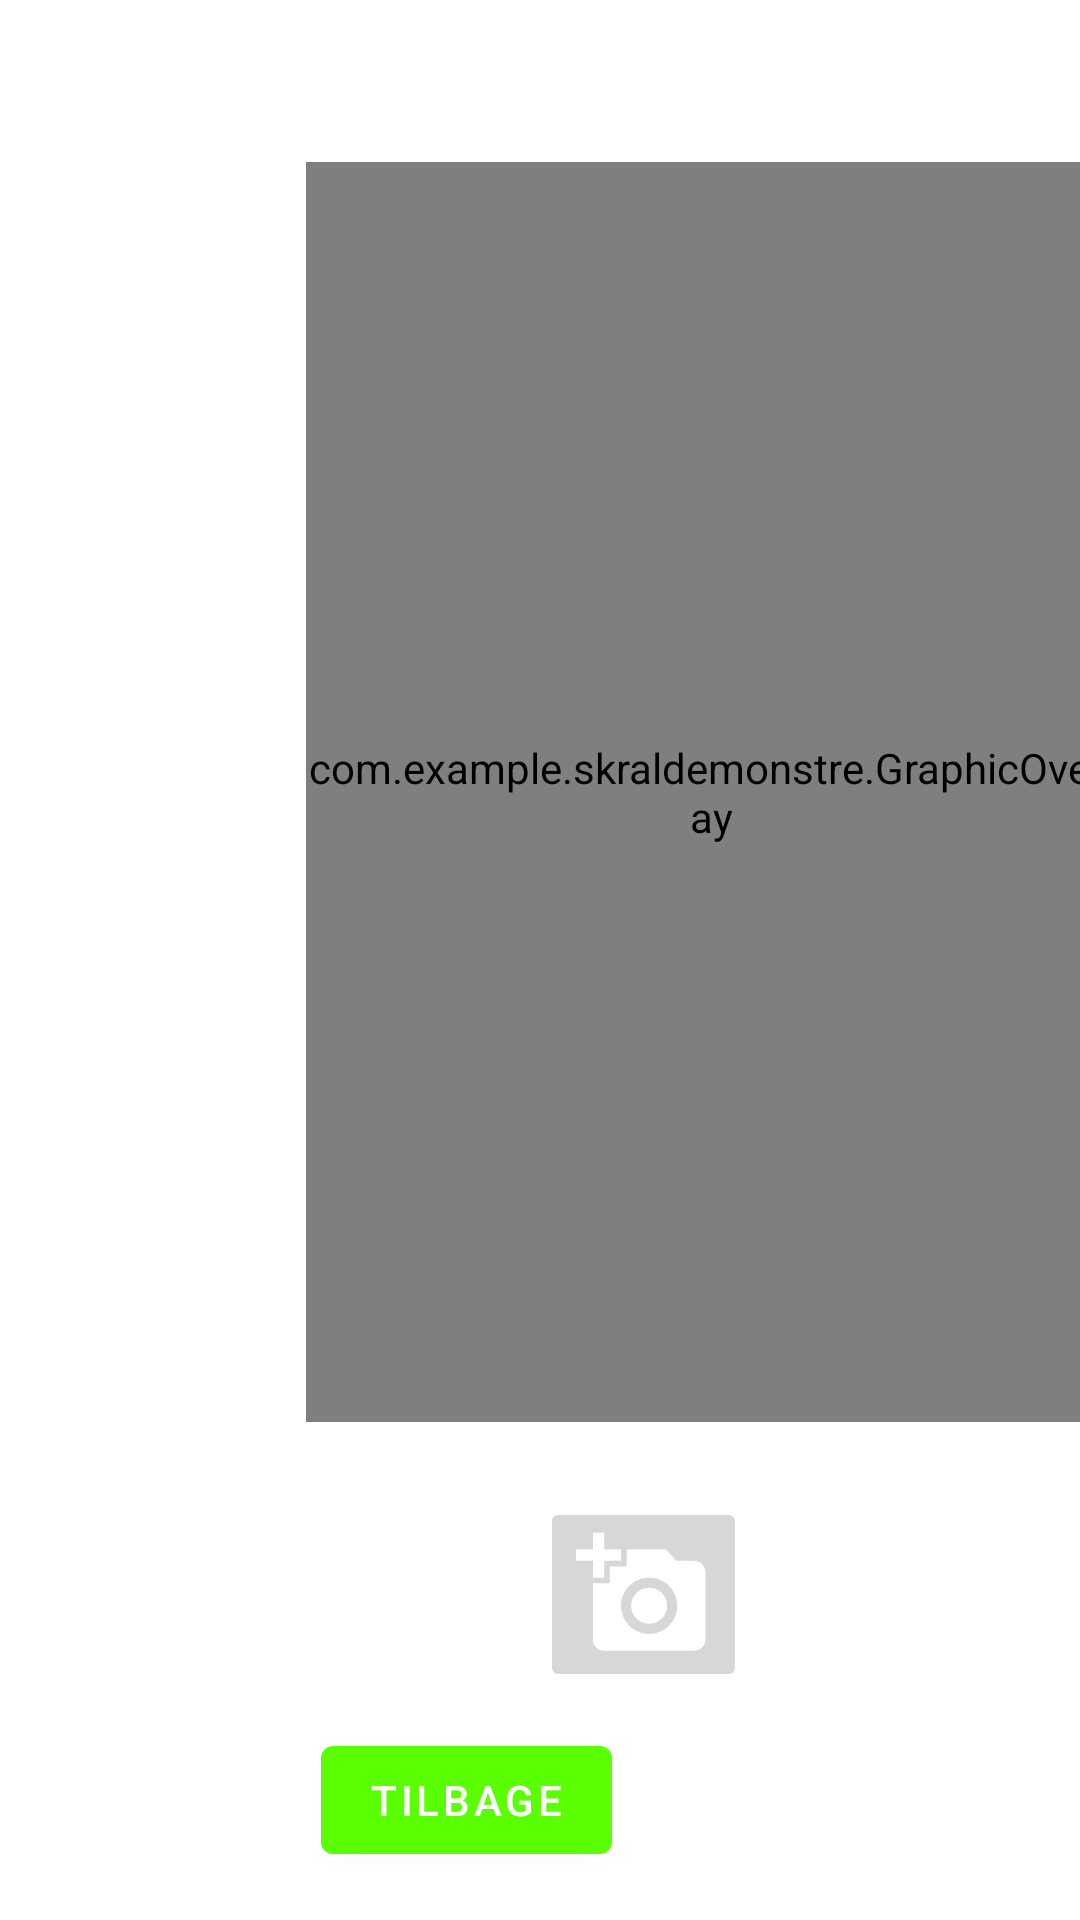

Screen size 1080w x 1920h. Icon name, then its center in pixels as (x,y):
add photo: (643,1594)
